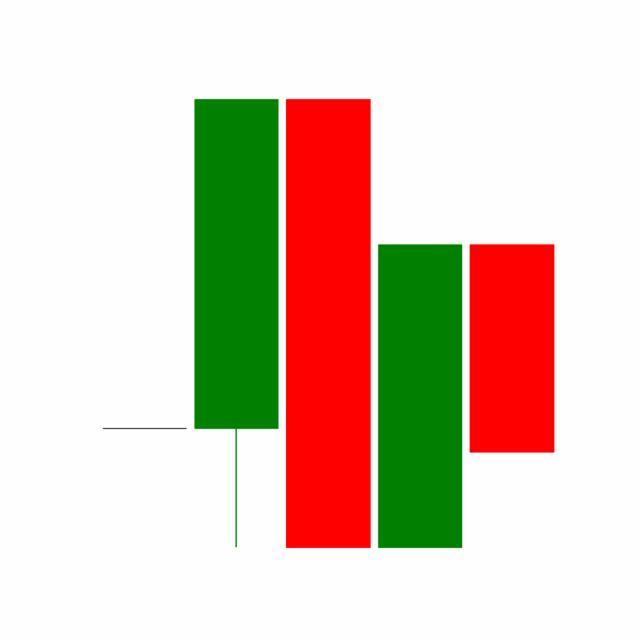Marubozu: (466, 243, 559, 456)
